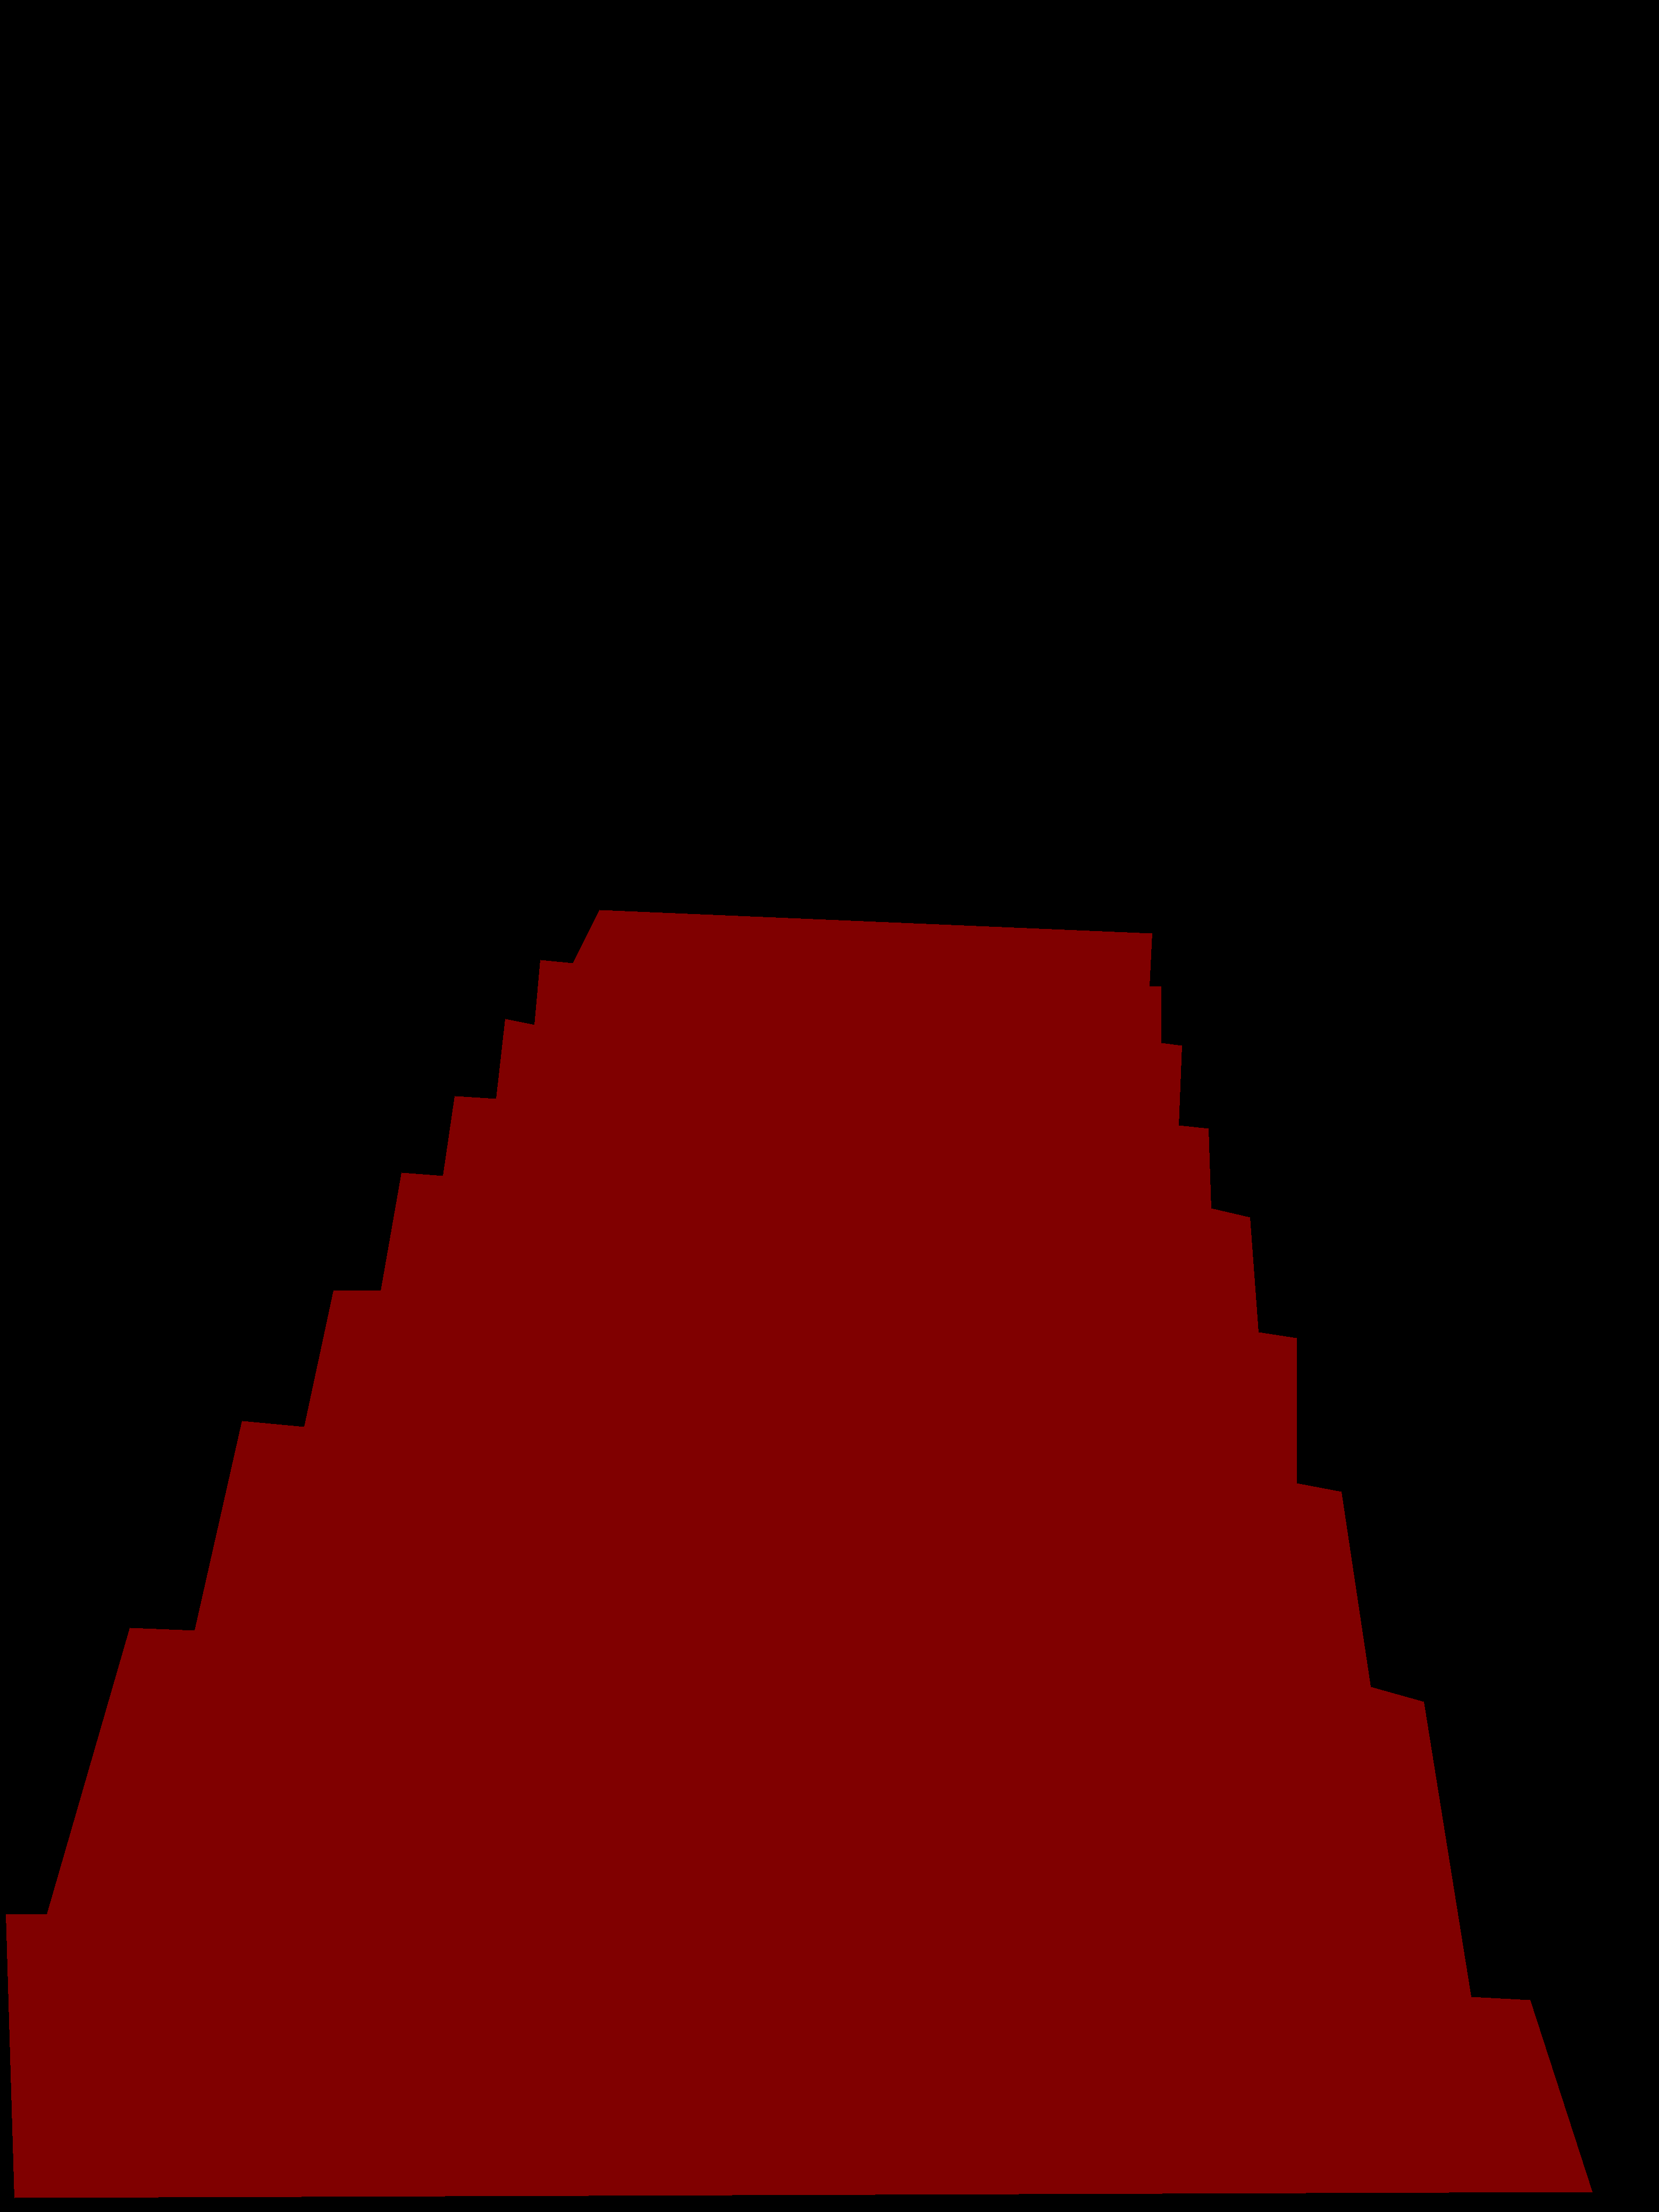stair: (5, 909, 1593, 2198)
